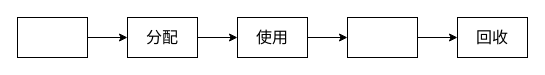
The diagram is 545 pixels wide and 75 high, and some of its shapes have lost their labels. The shapes that lost their labels are listed below. From the top down, each one's centre as x and y in pixels, then its label:
At point 52,37: "申请".
At point 382,37: "释放".
